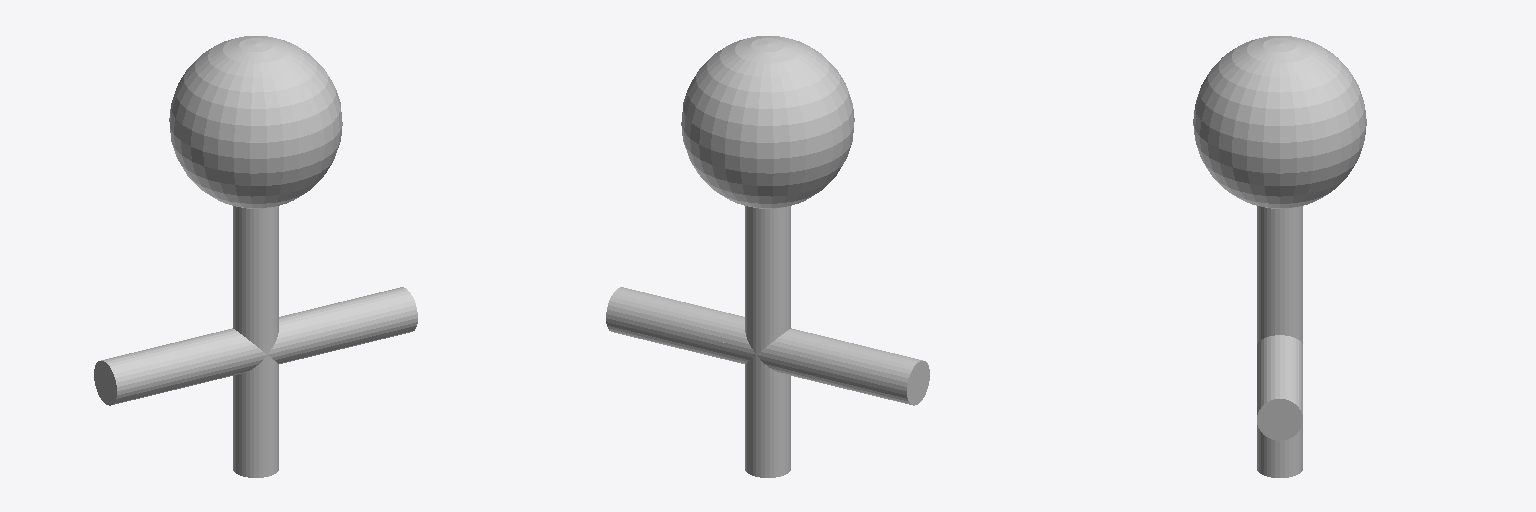
3 renders of one model, left to right at view 1: azimuth 30°, elevation 25°; view 2: azimuth 150°, elevation 25°; view 3: azimuth 270°, elevation 25°, orthographic.
Visible parts, largest first — view 1: 球; view 2: 球; view 3: 球.
Part boxes in pixels (bbox=[...]): 球: bbox=[94, 36, 417, 477]; 球: bbox=[606, 36, 929, 477]; 球: bbox=[1193, 36, 1366, 477].
Bounding box in the file's own units: 3 × 4.05 × 1.5.
Materials: 1 (1 with a texture image).